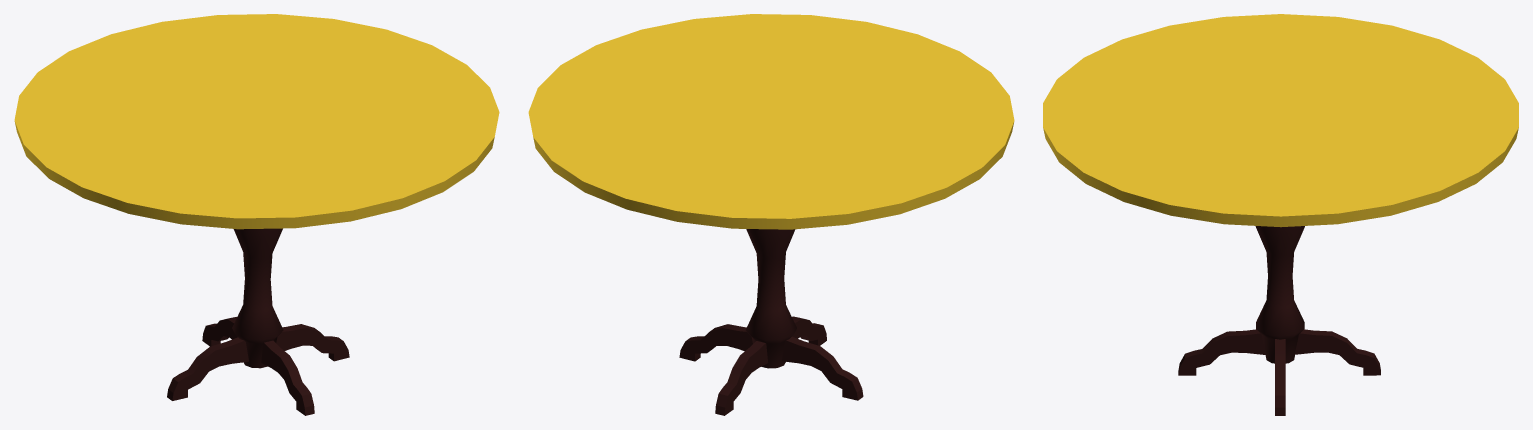
The model's file is Table.obj.
The picture shows the model from 3 angles, left to right: view 1: azimuth 30°, elevation 25°; view 2: azimuth 150°, elevation 25°; view 3: azimuth 270°, elevation 25°; orthographic projection.
Visible parts, largest first — view 1: Table:polySurface10; view 2: Table:polySurface10; view 3: Table:polySurface10.
Part boxes in pixels (<box>): Table:polySurface10: <box>14,14,499,415</box>; Table:polySurface10: <box>528,14,1014,415</box>; Table:polySurface10: <box>1043,14,1518,415</box>.
Size of the model in its own units: 2.34 by 1.39 by 2.33.
Materials: 2 (2 with a texture image).
